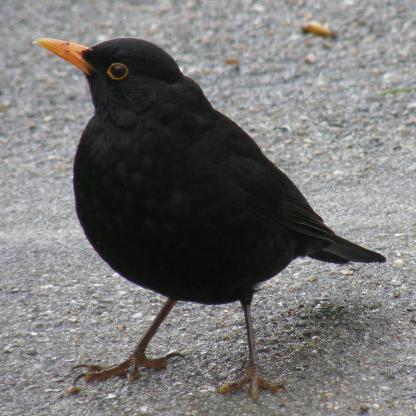Bird: (22, 58, 398, 400)
